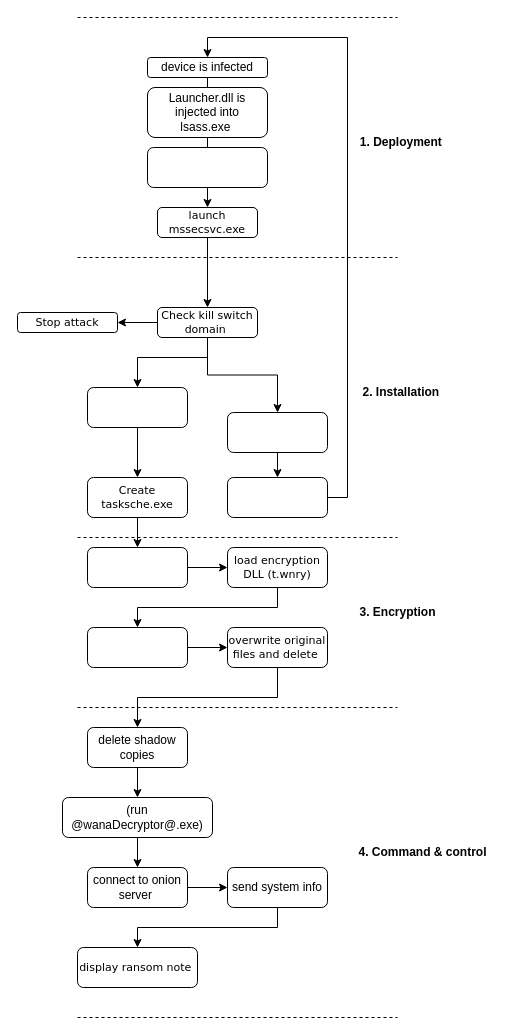
The diagram is 515 pixels wide and 1036 high, and some of its shapes have lost their labels. The shapes that lost their labels are listed below. From the top down, each one's centre as x and y in pixels, then its label:
At (x=207, y=167): "create mssecsvc.exe in C:\WINDOWS\".
At (x=137, y=407): "register mssecsvc 2.0 as a win service".
At (x=277, y=432): "start mssecsvc 2.0 service".
At (x=277, y=497): "Infect new device".
At (x=137, y=567): "extract recources".
At (x=137, y=647): "encrypt files".
